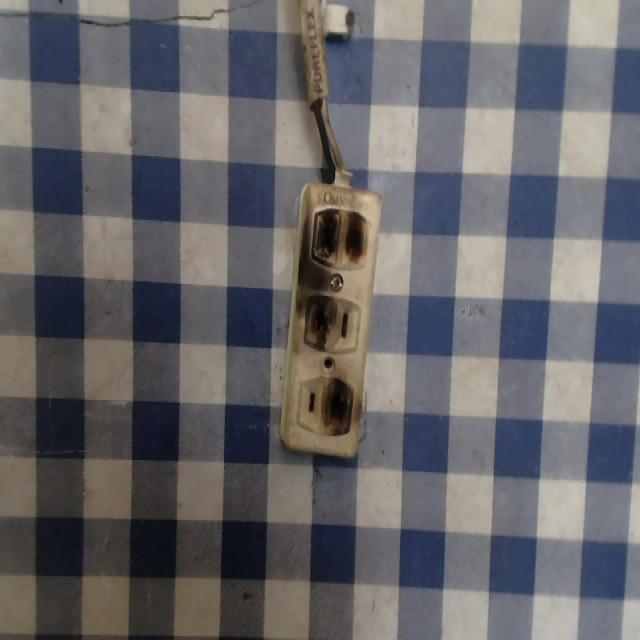-: (307, 192, 369, 275), (298, 291, 340, 352), (321, 372, 357, 437)
